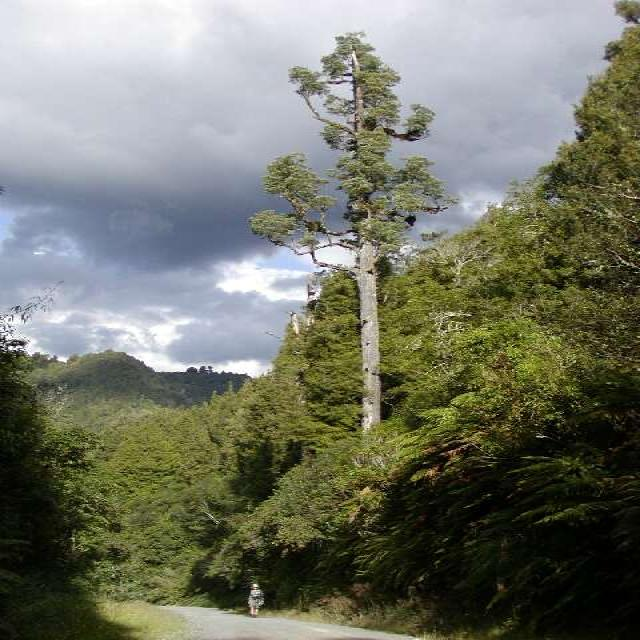Kahikatea: (258, 30, 450, 430)
